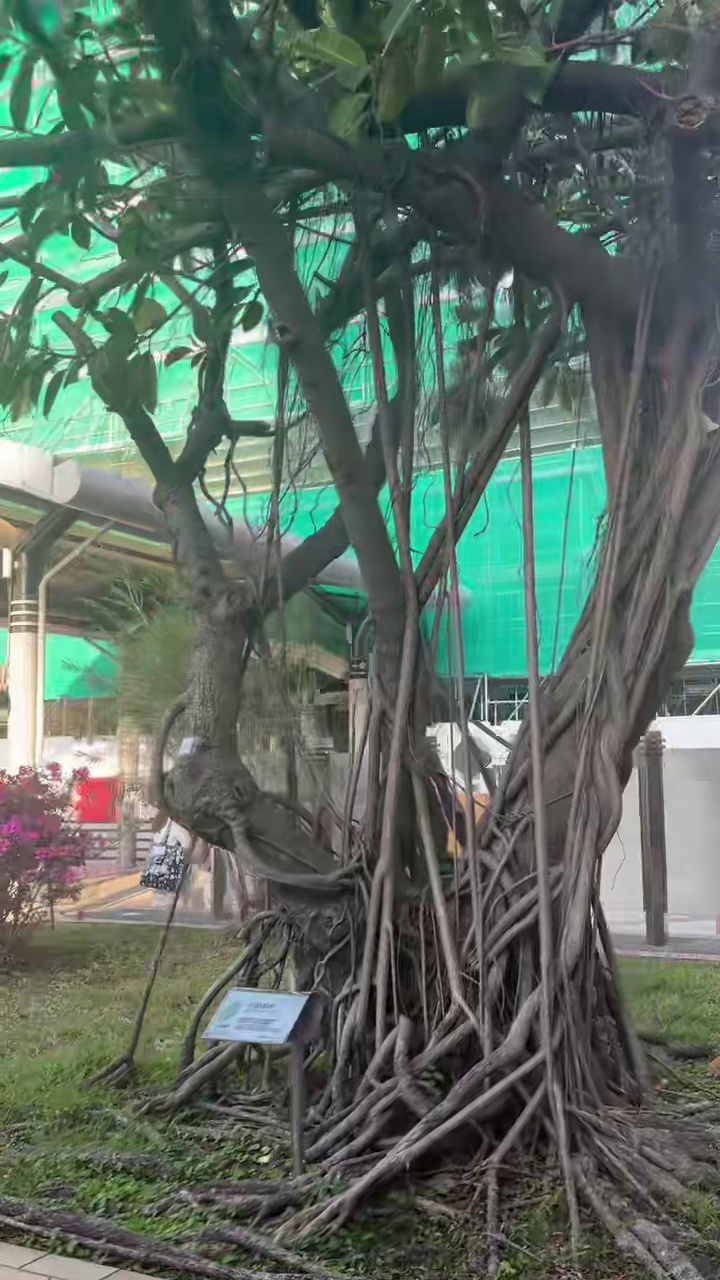Ficus elastica: (0, 0, 719, 1241)
